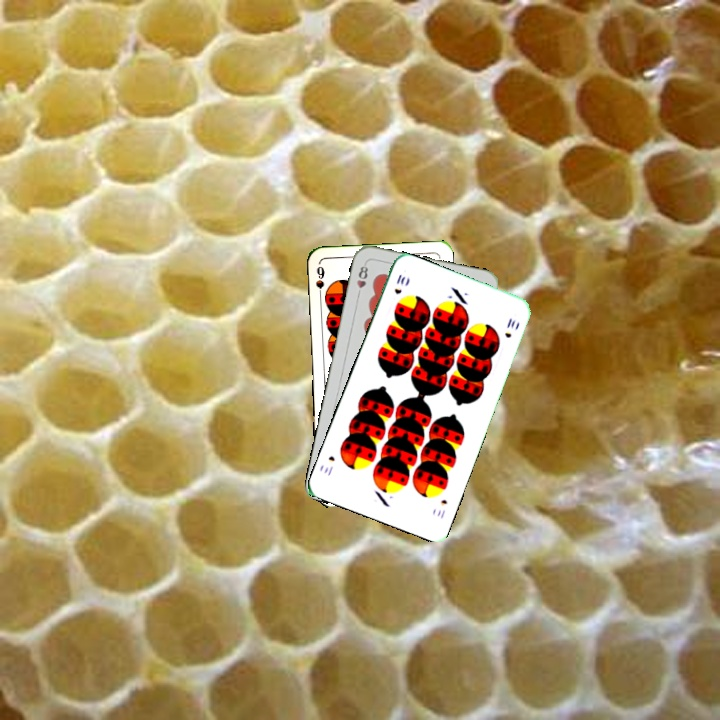H8: (353, 259, 371, 299)
S10: (390, 270, 408, 297), (433, 495, 450, 521)
S9: (312, 262, 327, 302)
